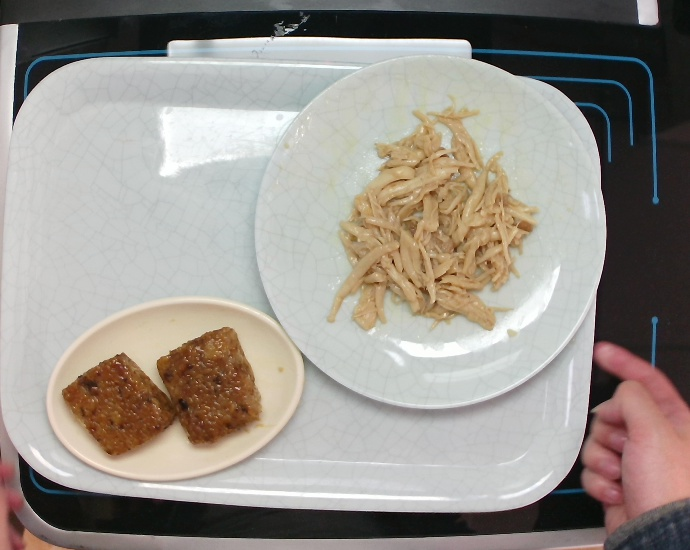JYsf-Da_Yuan_Pan: (242, 46, 610, 416)
JYsf-Tuo_Yuan_Wan: (41, 294, 309, 485)
